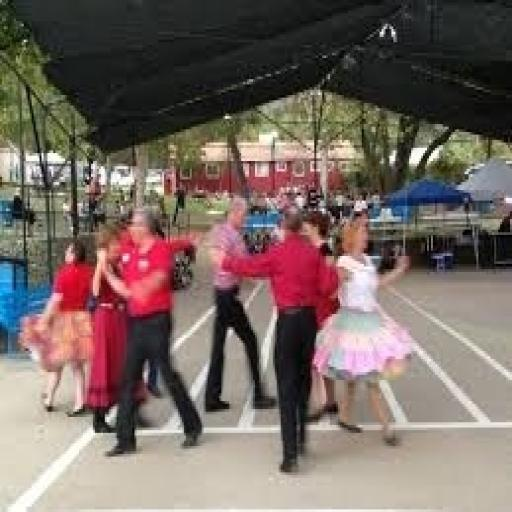dancing: (99, 201, 205, 459)
